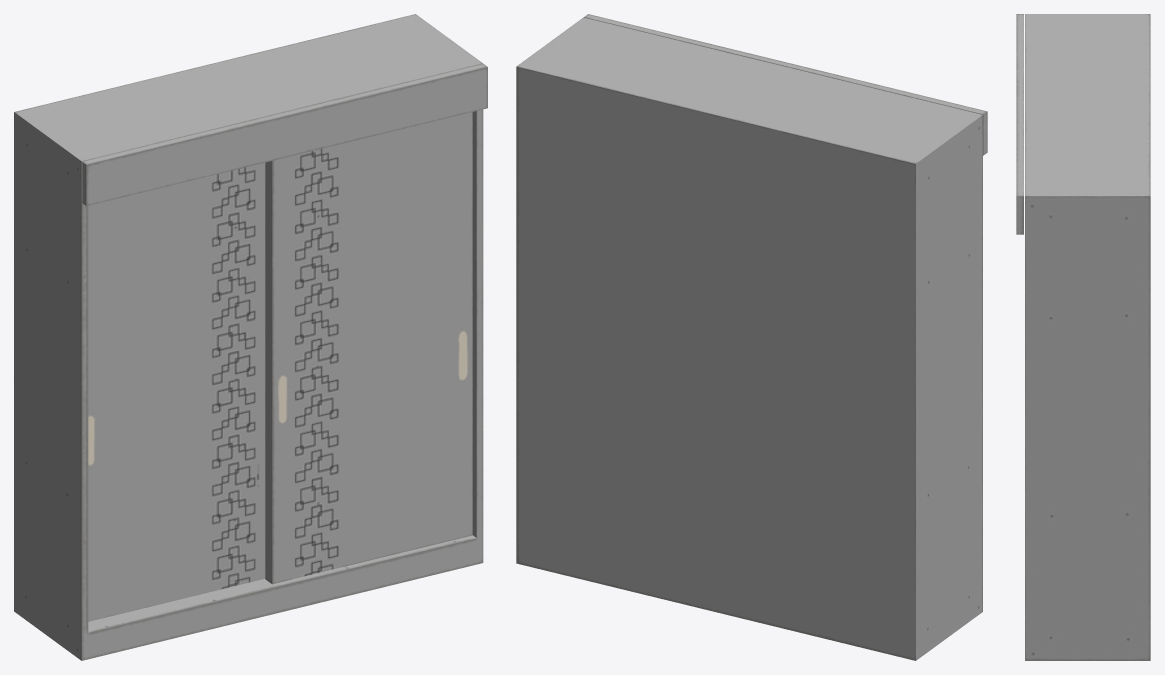
The model's file is wardrobe.glb.
3 renders of one model, left to right at view 1: azimuth 30°, elevation 25°; view 2: azimuth 150°, elevation 25°; view 3: azimuth 270°, elevation 25°, orthographic. The views are drawn at different scales.
Visible parts, largest first — view 1: armario; view 2: armario; view 3: armario.
Boxes of the visible parts, left/top/right/bottom form: armario: left=14, top=14, right=487, bottom=660; armario: left=516, top=14, right=987, bottom=660; armario: left=1016, top=14, right=1150, bottom=660.
Bounding box in the file's own units: 1.75 × 2.08 × 0.5451.
1 material, 1 textured.
